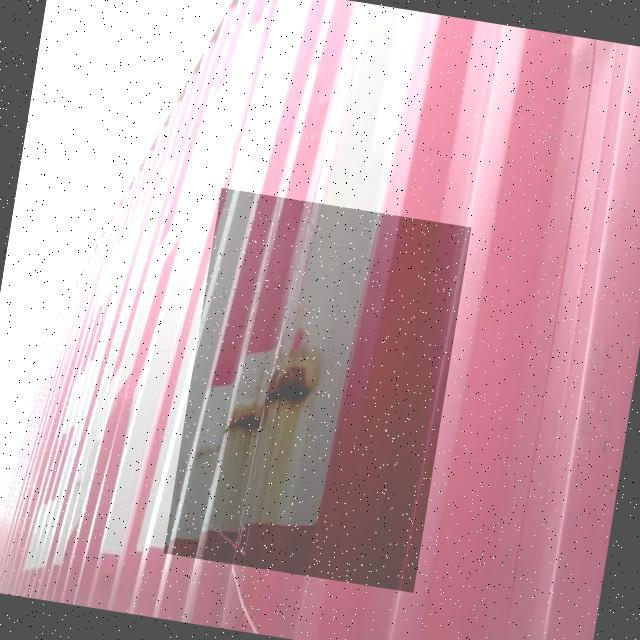Dent: (163, 189, 471, 596)
